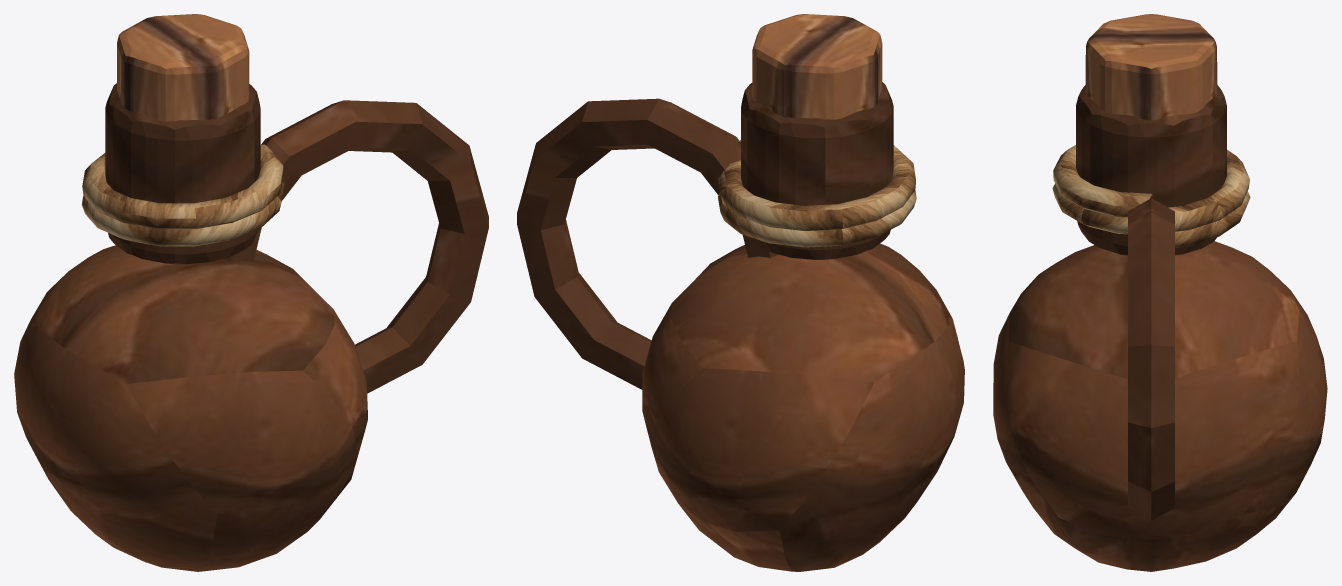
Rendered from drink_spore_mead.glb.
3 views of the same model, side by side, from view 1: azimuth 30°, elevation 25°; view 2: azimuth 150°, elevation 25°; view 3: azimuth 270°, elevation 25° (orthographic). The views are drawn at different scales.
Visible parts, largest first — view 1: model; view 2: model; view 3: model.
Boxes of the visible parts, x1,y1,x2,y2 form: model: [14, 14, 488, 571]; model: [517, 14, 964, 571]; model: [993, 14, 1327, 571].
Bounding box in the file's own units: 0.2193 × 0.2511 × 0.1483.
Materials: 4 (4 with a texture image).
